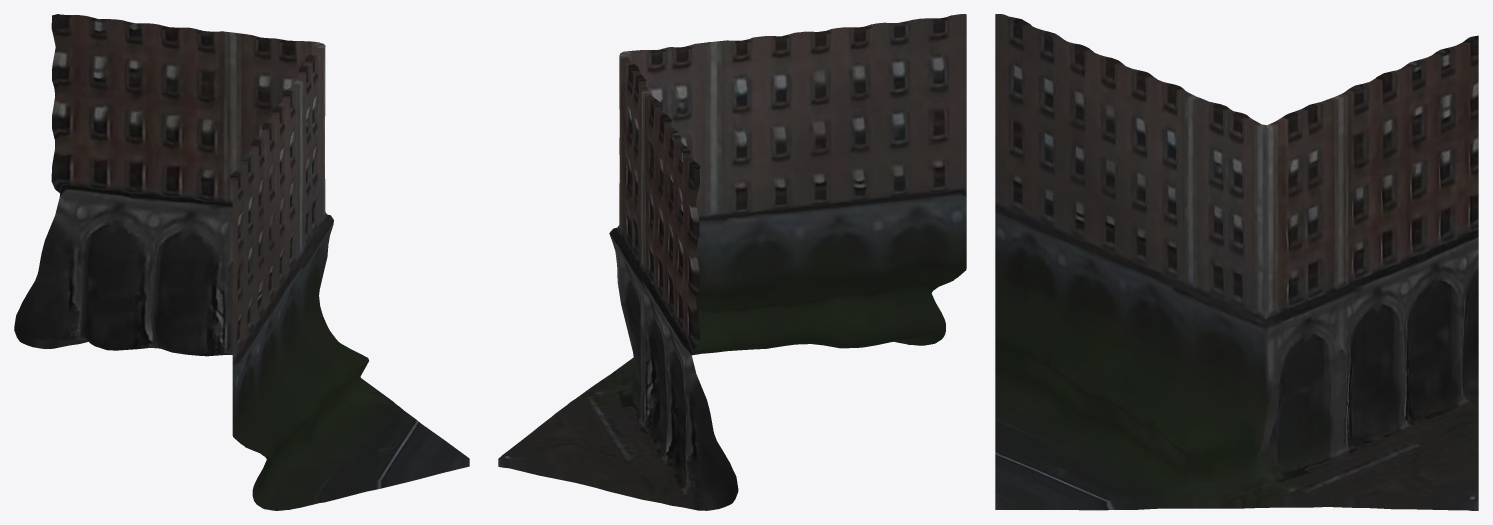
File: z20-167787-405225-h0-yup-uvflip-v3-world.glb
The picture shows the model from 3 angles, left to right: view 1: azimuth 30°, elevation 25°; view 2: azimuth 150°, elevation 25°; view 3: azimuth 270°, elevation 25°; orthographic projection. The views are drawn at different scales.
Size of the model in its own units: 18.8 by 25.64 by 30.32.
1 material, 1 textured.
